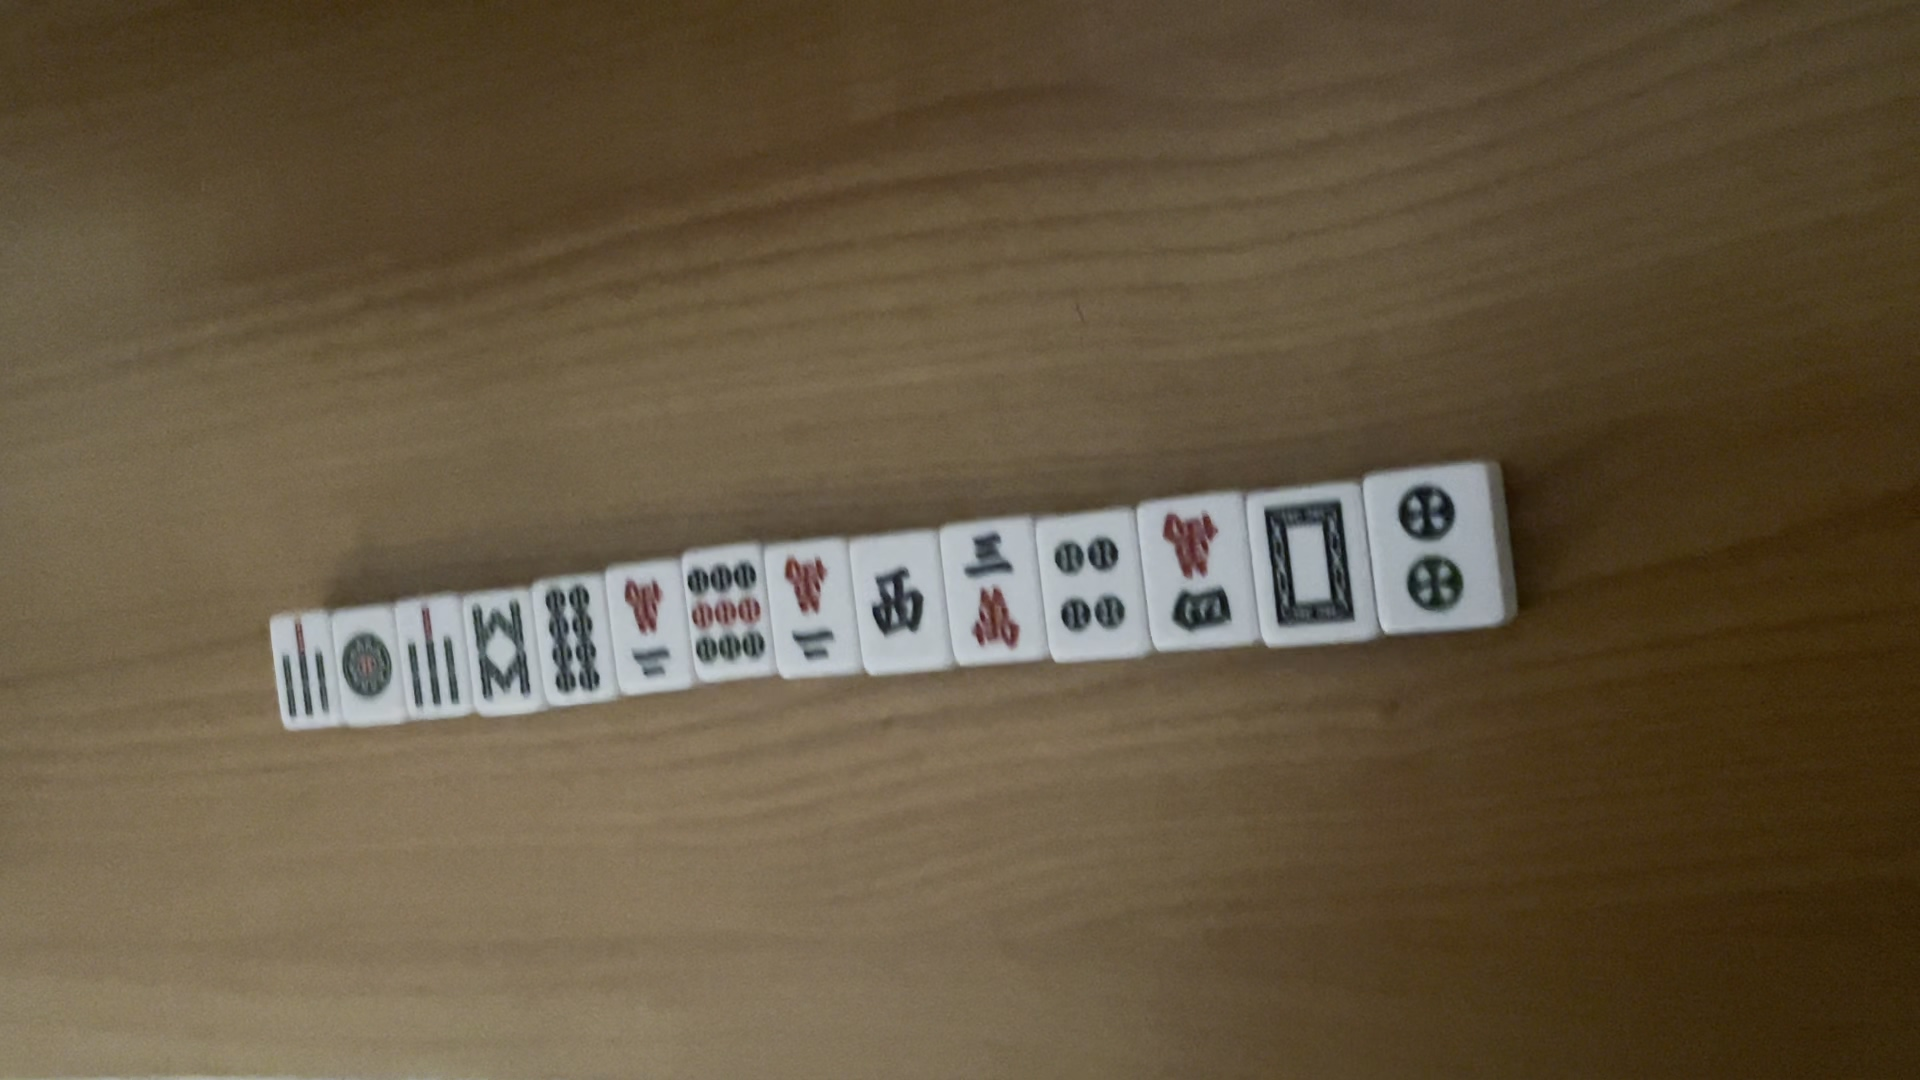b-7: (404, 604, 465, 715), (274, 617, 334, 727)
b-8: (465, 599, 535, 709)
c-2: (774, 553, 847, 673), (611, 572, 684, 688)
c-3: (953, 530, 1031, 655)
c-4: (1151, 506, 1241, 640)
d-1: (334, 628, 396, 705)
d-2: (1393, 479, 1470, 618)
d-4: (1044, 535, 1127, 638)
d-8: (535, 583, 604, 705)
d-9: (684, 562, 770, 667)
honors-west: (852, 559, 934, 646)
honors-white: (1261, 498, 1361, 632)
